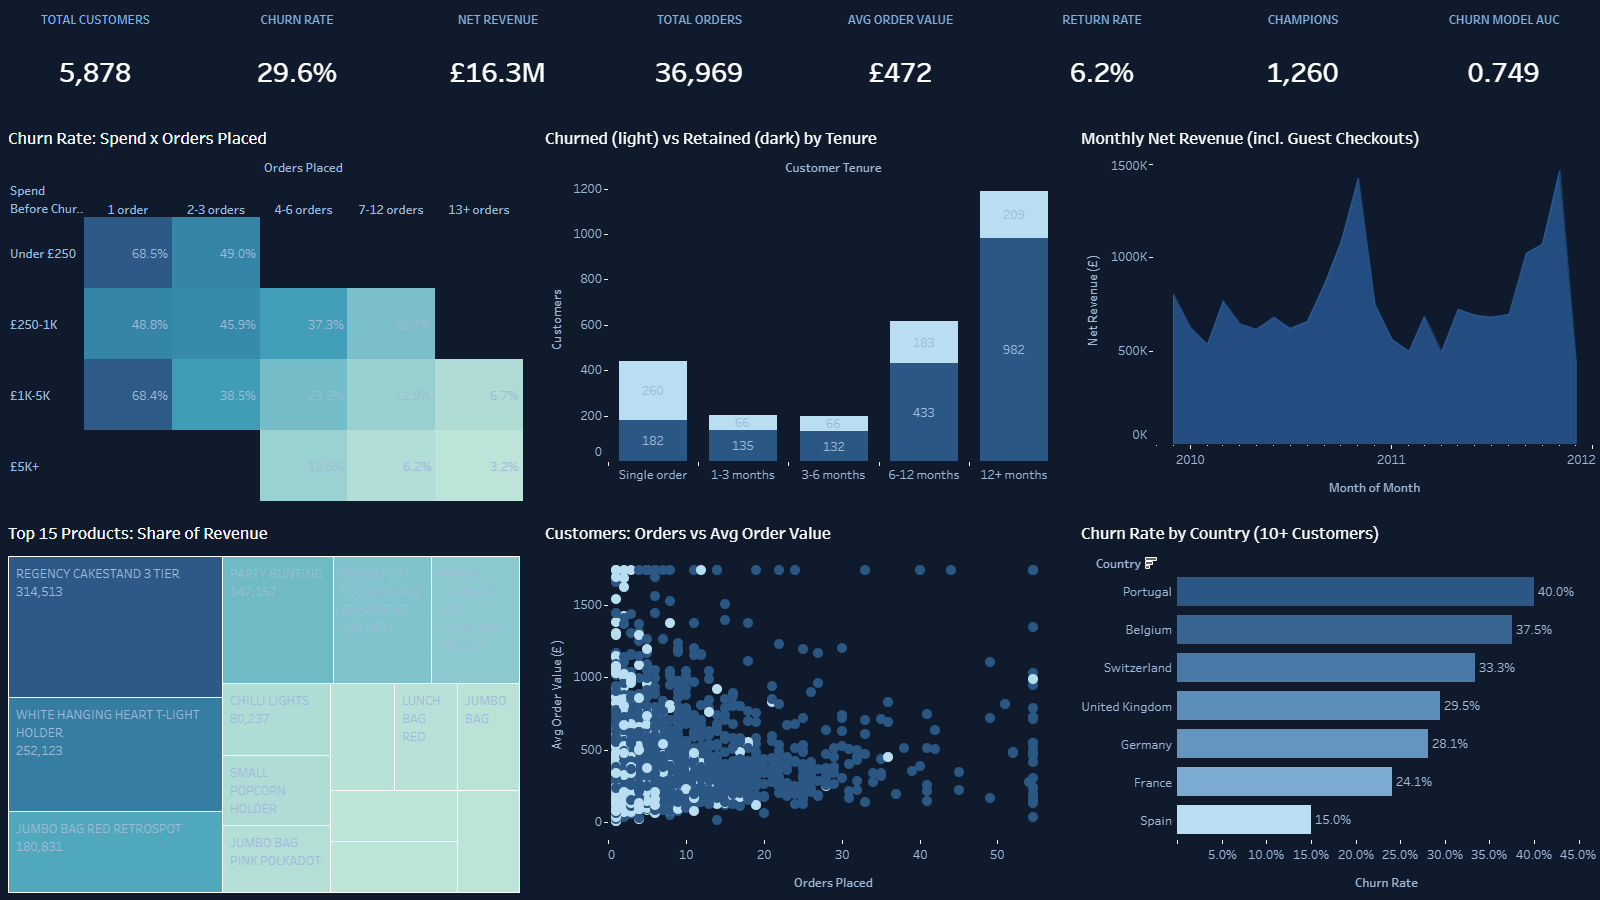

Layout of this report page (visuals, bound fields, positions):
{"tool":"tableau","page":{"name":"Retail Customer Analytics","canvas":[1600,900],"ordinal":0},"visuals":[{"type":"worksheet","title":"TOTAL CUSTOMERS","mark":"Text","box":[9.6,5.4,189.2,108]},{"type":"worksheet","title":"CHURN RATE","mark":"Text","box":[208.4,5.4,189.2,108]},{"type":"worksheet","title":"NET REVENUE","mark":"Text","box":[407.2,5.4,189.2,108]},{"type":"worksheet","title":"TOTAL ORDERS","mark":"Text","box":[606,5.4,189.2,108]},{"type":"worksheet","title":"AVG ORDER VALUE","mark":"Text","box":[804.8,5.4,189.2,108]},{"type":"worksheet","title":"RETURN RATE","mark":"Text","box":[1003.6,5.4,189.2,108]},{"type":"worksheet","title":"CHAMPIONS","mark":"Text","box":[1202.4,5.4,189.2,108]},{"type":"worksheet","title":"CHURN MODEL AUC","mark":"Text","box":[1401.2,5.4,189.2,108]},{"type":"worksheet","title":"Churn Rate: Spend x Orders Placed","mark":"Square","rows":["spend_band"],"cols":["frequency_band"],"box":[9.6,118.8,520.5,385.2]},{"type":"worksheet","title":"Churned (light) vs Retained (dark) by Tenure","mark":"Bar","rows":["customers"],"cols":["tenure_bucket"],"box":[539.7,118.8,520.5,385.2]},{"type":"worksheet","title":"Monthly Net Revenue (incl. Guest Checkouts)","mark":"Area","rows":["net_revenue"],"cols":["sales_month"],"box":[1069.9,118.8,520.5,385.2]},{"type":"worksheet","title":"Top 15 Products: Share of Revenue","mark":"Square","box":[9.6,509.4,520.5,385.2]},{"type":"worksheet","title":"Customers: Orders vs Avg Order Value","mark":"Circle","rows":["avg_order_value"],"cols":["frequency"],"box":[539.7,509.4,520.5,385.2]},{"type":"worksheet","title":"Churn Rate by Country (10+ Customers)","mark":"Bar","rows":["country"],"cols":["churn_rate"],"box":[1069.9,509.4,520.5,385.2]}]}

Visuals, with their boxes in screenshot pixels (x1, y1, x2, y2), scaled from the page's 1600x900 canvas onto the 1600x900 screenshot:
"TOTAL CUSTOMERS" worksheet (Text marks): detection(10, 5, 199, 113)
"CHURN RATE" worksheet (Text marks): detection(208, 5, 398, 113)
"NET REVENUE" worksheet (Text marks): detection(407, 5, 596, 113)
"TOTAL ORDERS" worksheet (Text marks): detection(606, 5, 795, 113)
"AVG ORDER VALUE" worksheet (Text marks): detection(805, 5, 994, 113)
"RETURN RATE" worksheet (Text marks): detection(1004, 5, 1193, 113)
"CHAMPIONS" worksheet (Text marks): detection(1202, 5, 1392, 113)
"CHURN MODEL AUC" worksheet (Text marks): detection(1401, 5, 1590, 113)
"Churn Rate: Spend x Orders Placed" worksheet (Square marks): detection(10, 119, 530, 504)
"Churned (light) vs Retained (dark) by Tenure" worksheet (Bar marks): detection(540, 119, 1060, 504)
"Monthly Net Revenue (incl. Guest Checkouts)" worksheet (Area marks): detection(1070, 119, 1590, 504)
"Top 15 Products: Share of Revenue" worksheet (Square marks): detection(10, 509, 530, 895)
"Customers: Orders vs Avg Order Value" worksheet (Circle marks): detection(540, 509, 1060, 895)
"Churn Rate by Country (10+ Customers)" worksheet (Bar marks): detection(1070, 509, 1590, 895)
